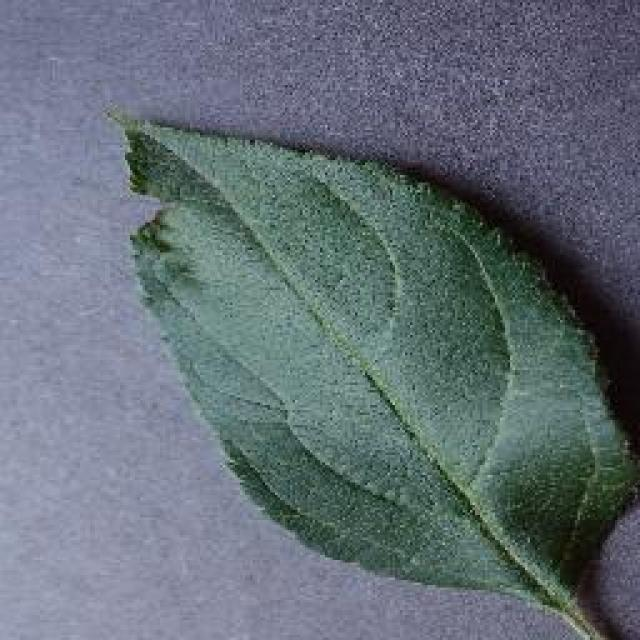apple healthy: (105, 102, 637, 638)
